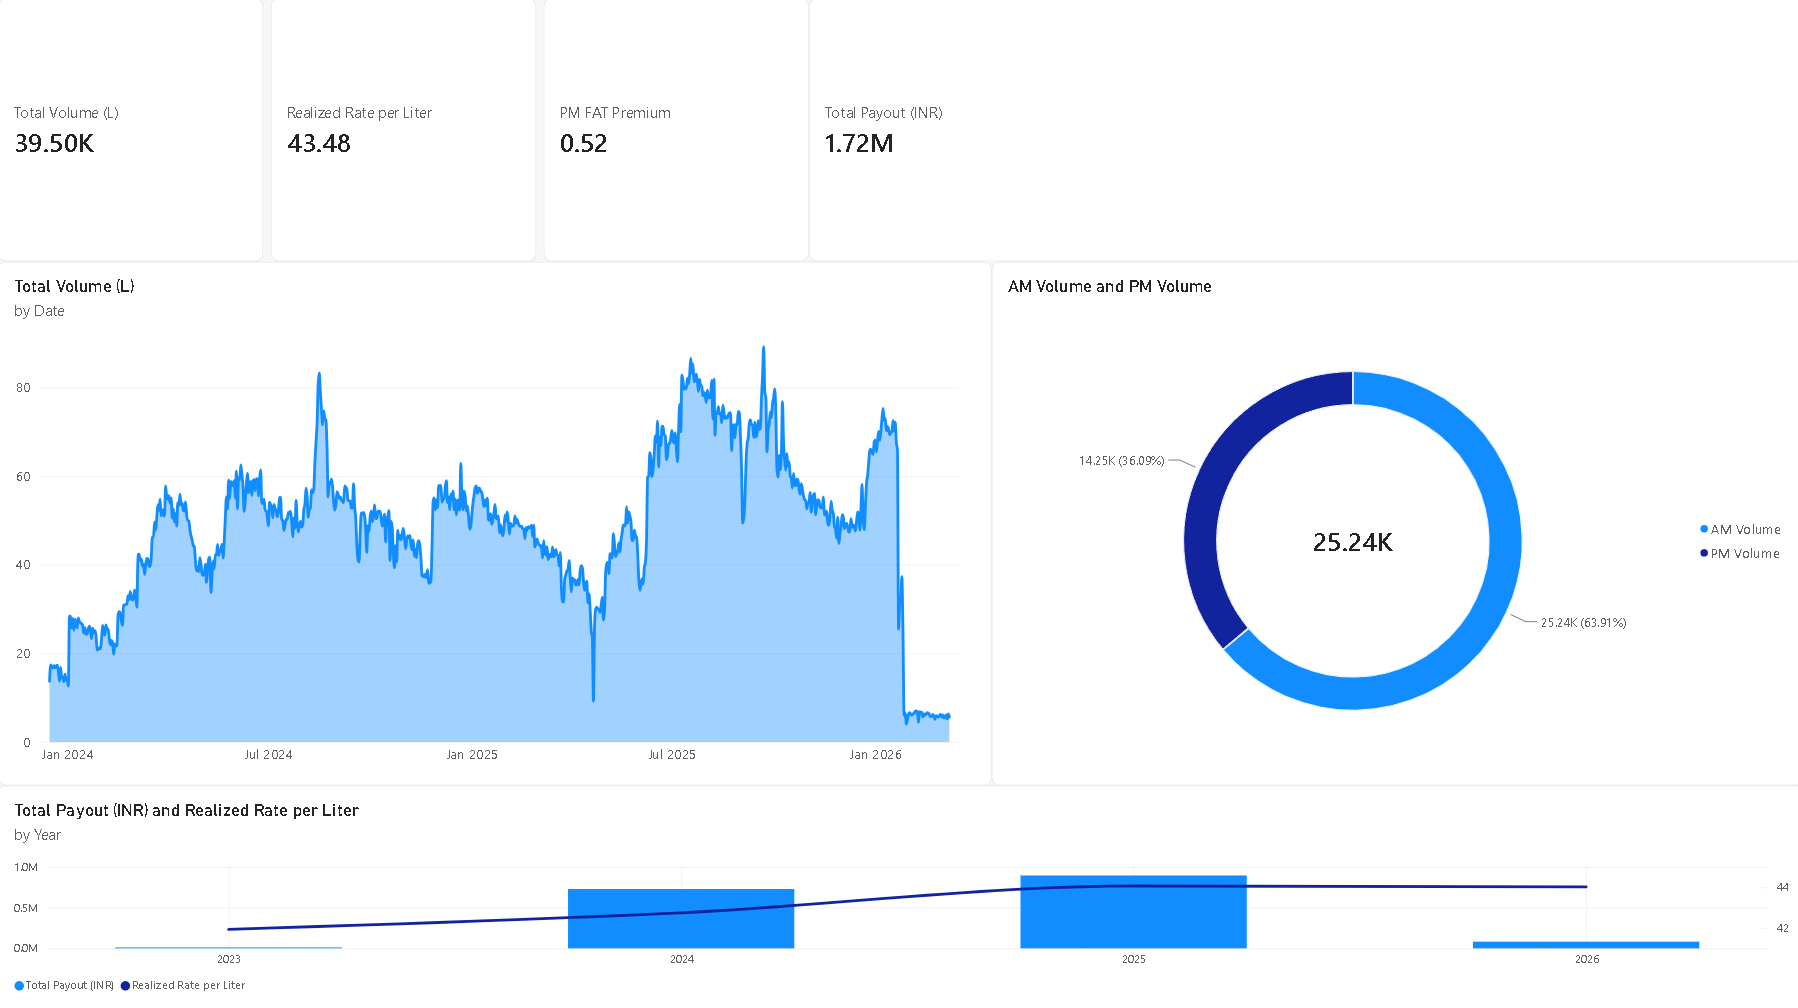

What the dashboard file says about the page in this screenshot:
{"tool":"powerbi","page":{"name":"Executive Overview","canvas":[1920,1080],"ordinal":0},"visuals":[{"type":"cardVisual","fields":{"Data":["_Measures.Total Volume (L)","_Measures.Realized Rate per Liter","_Measures.PM FAT Premium"]},"box":[0,0,862.9,280],"z":0},{"type":"cardVisual","fields":{"Data":["_Measures.Total Payout (INR)"]},"box":[862.9,0,1057.1,280],"z":1000},{"type":"areaChart","fields":{"Category":["dairy_procurement_clean.Date"],"Y":["_Measures.Total Volume (L)"]},"box":[0,280,1056.7,556.7],"z":2000},{"type":"donutChart","fields":{"Y":["_Measures.AM Volume","_Measures.PM Volume"]},"box":[1056.7,280,863.3,556.7],"z":3000},{"type":"lineClusteredColumnComboChart","fields":{"Category":["dairy_procurement_clean.Date.Variation.Date Hierarchy.Year","dairy_procurement_clean.Date.Variation.Date Hierarchy.Month"],"Y":["_Measures.Total Payout (INR)"],"Y2":["_Measures.Realized Rate per Liter"]},"box":[0,836.7,1920,243.3],"z":4000}]}

Visuals, with their boxes in screenshot pixels (x1, y1, x2, y2), scaled from the page's 1920x1080 canvas onto the 1798x1008 screenshot:
cardVisual - _Measures.Total Volume (L) x _Measures.Realized Rate per Liter: [0,0,808,261]
cardVisual - _Measures.Total Payout (INR): [808,0,1797,261]
areaChart - dairy_procurement_clean.Date x _Measures.Total Volume (L): [0,261,990,781]
donutChart - _Measures.AM Volume x _Measures.PM Volume: [990,261,1797,781]
lineClusteredColumnComboChart - dairy_procurement_clean.Date.Variation.Date Hierarchy.Year x dairy_procurement_clean.Date.Variation.Date Hierarchy.Month: [0,781,1797,1007]
